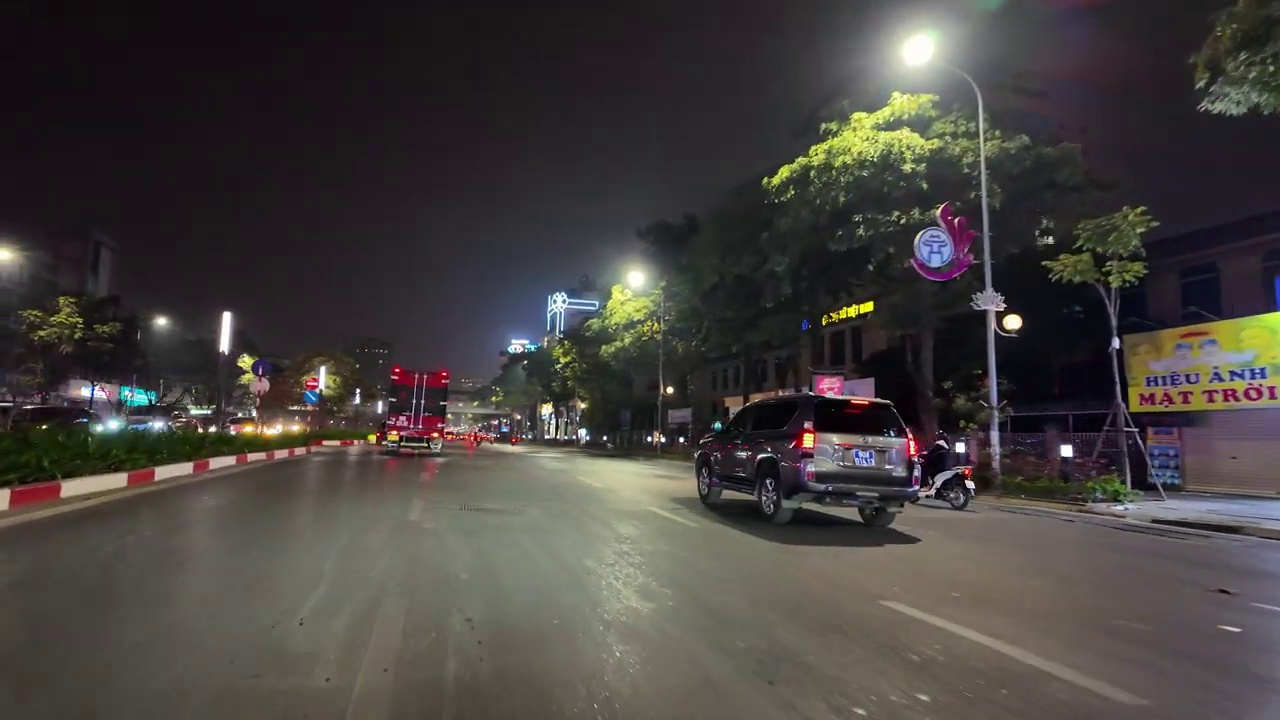acesa: (895, 27, 942, 73), (619, 263, 653, 297), (149, 312, 175, 335), (0, 242, 19, 269)
